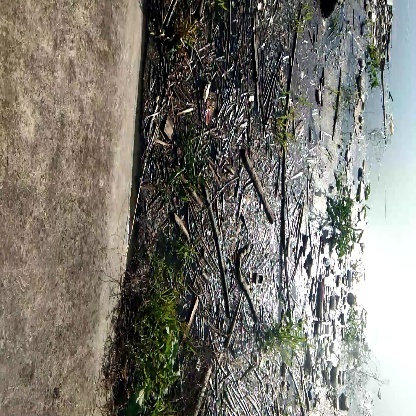branch: (240, 145, 287, 228)
